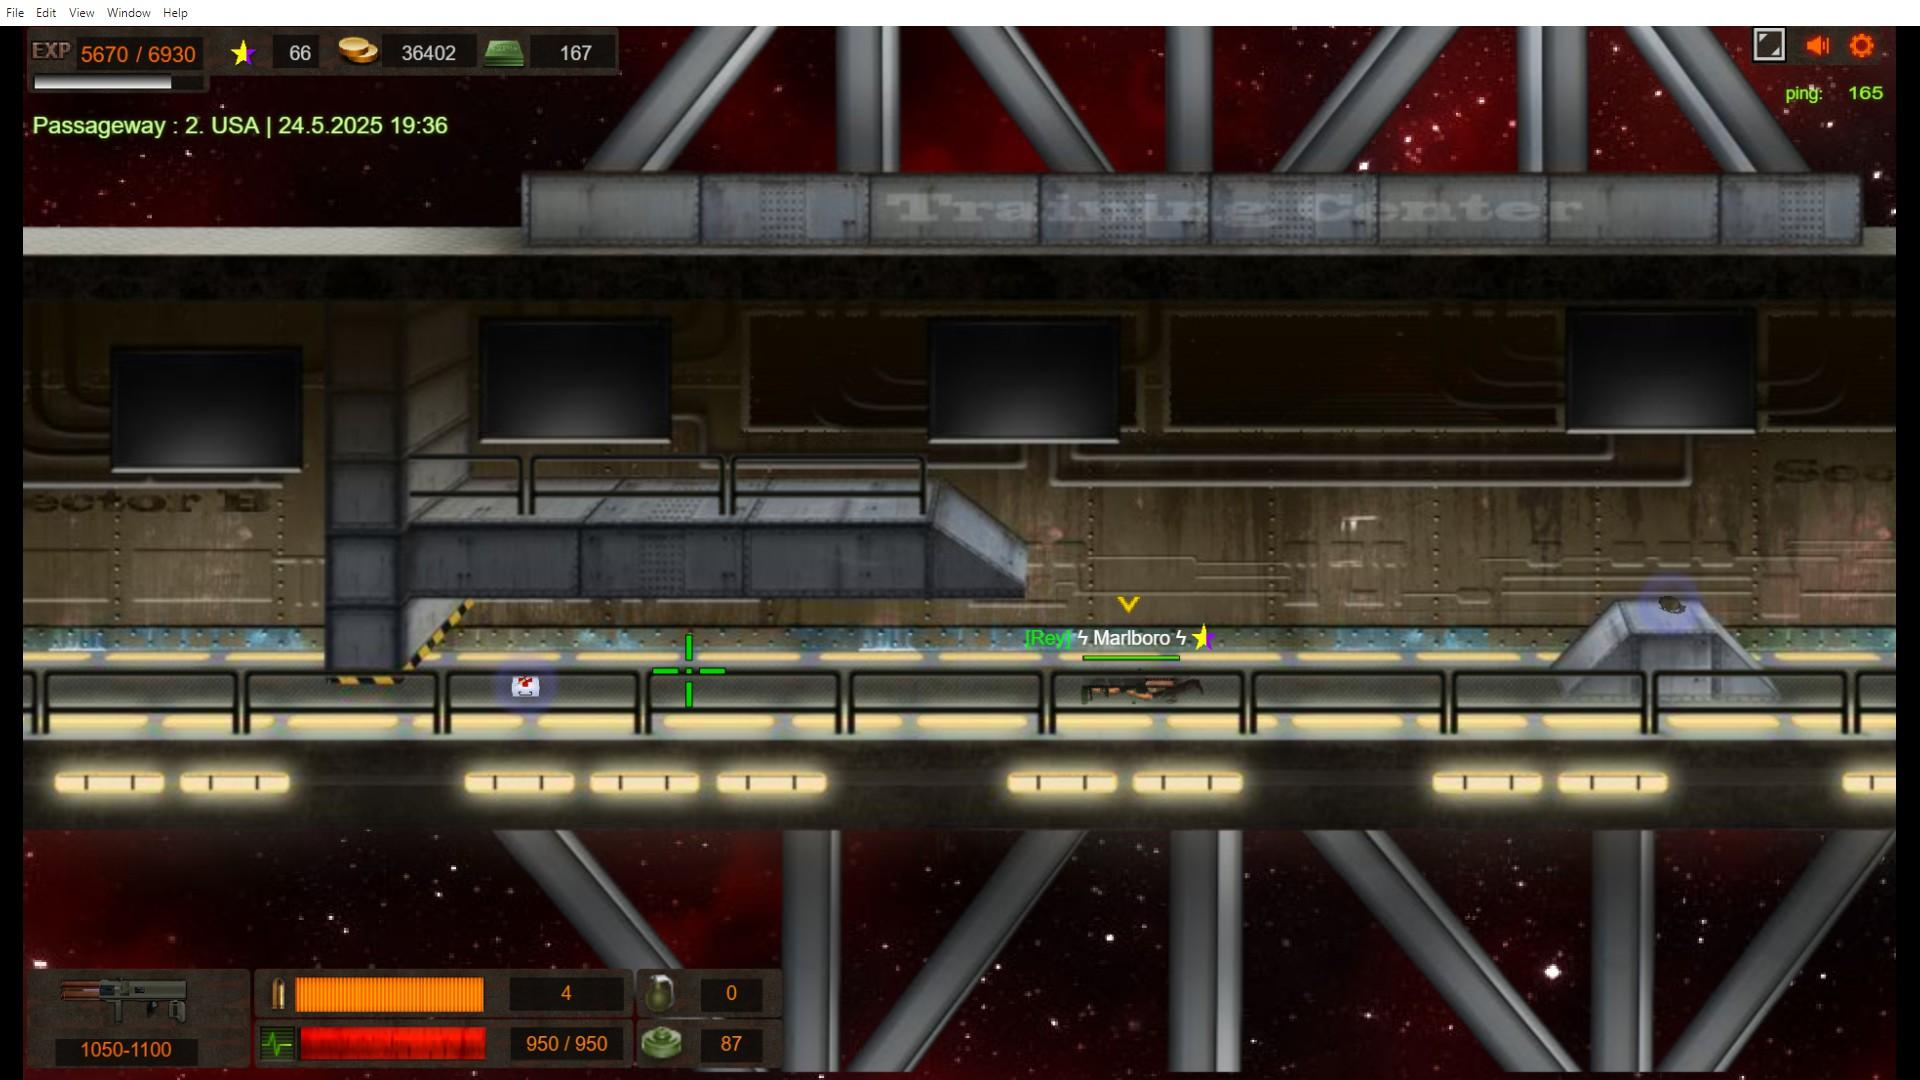enemy: (1080, 667, 1201, 705)
